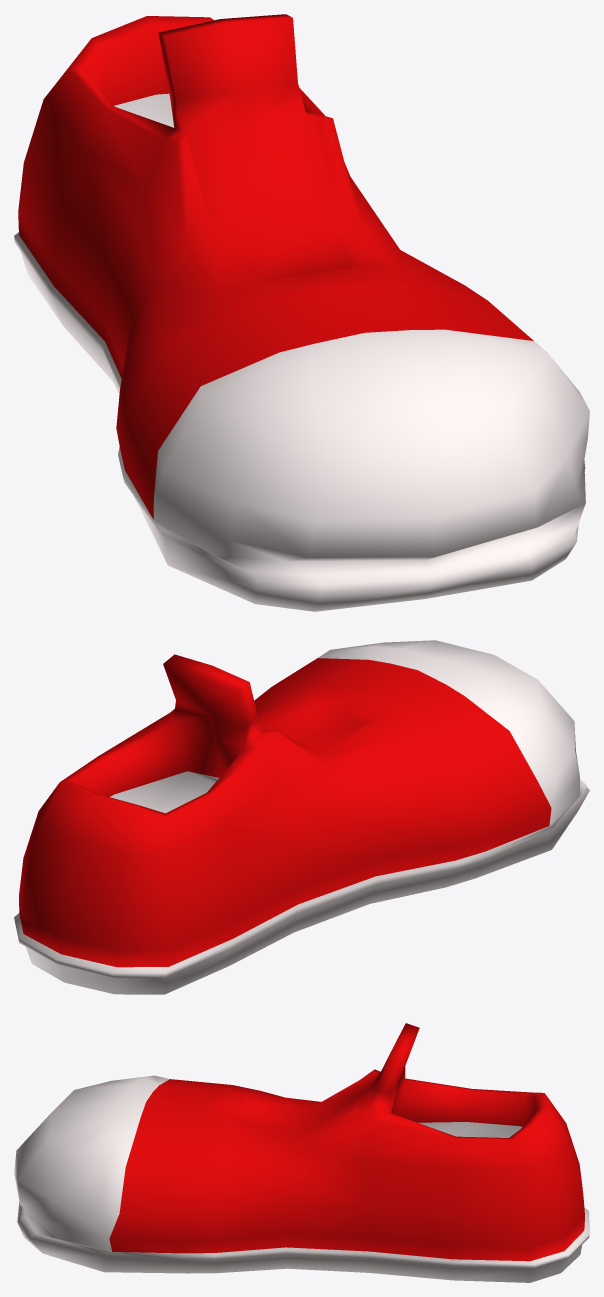
File: zapatilla.fbx
3 renders of one model, top to bottom at view 1: azimuth 30°, elevation 25°; view 2: azimuth 150°, elevation 25°; view 3: azimuth 270°, elevation 25°, orthographic. The views are drawn at different scales.
Parts seen in each view (by area): view 1: Personaje.002; view 2: Personaje.002; view 3: Personaje.002.
Part boxes in pixels (x1,y1,x2,y2): Personaje.002: (14, 14, 589, 611); Personaje.002: (14, 640, 589, 994); Personaje.002: (14, 1023, 589, 1282).
Size of the model in its own units: 140 by 107 by 272.
